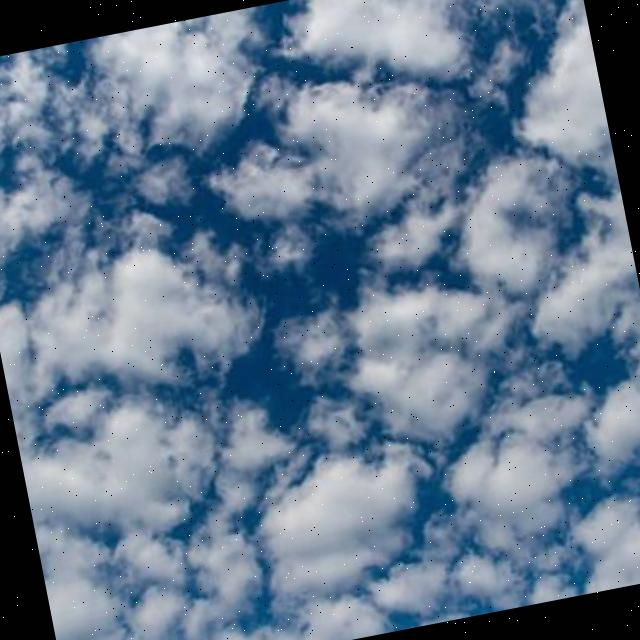St: (1, 1, 640, 609)
